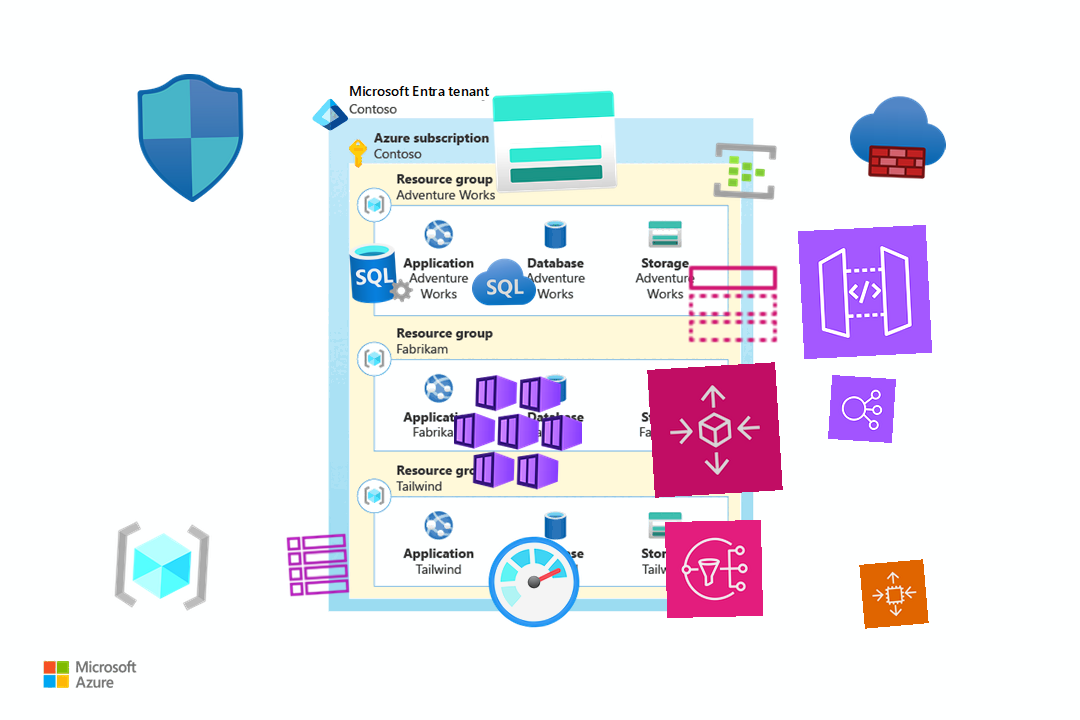aws_amazon_api_gateway: (797, 224, 933, 360)
aws_amazon_ec2_auto_scaling: (859, 559, 929, 629)
aws_amazon_simple_notification_service: (664, 519, 764, 619)
aws_auto_scaling: (647, 362, 783, 498)
aws_dynamodb_table: (283, 530, 353, 600)
aws_elastic_load_balancing: (827, 374, 897, 444)
aws_simple_notification_service_topic: (684, 255, 782, 353)
azure_event_hubs: (711, 137, 779, 205)
azure_firewalls: (848, 87, 948, 187)
azure_kubernetes_services: (452, 365, 584, 497)
azure_monitor: (482, 530, 586, 634)
azure_network_security_groups: (125, 72, 257, 204)
azure_resource_groups: (111, 515, 213, 617)
azure_sql: (471, 250, 537, 316)
azure_sql_server: (346, 238, 416, 308)
azure_storage_accounts: (488, 75, 622, 209)
